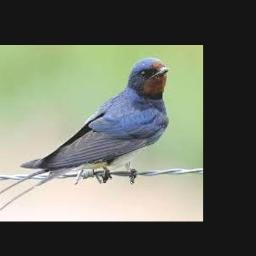Swallow: (0, 57, 169, 211)
